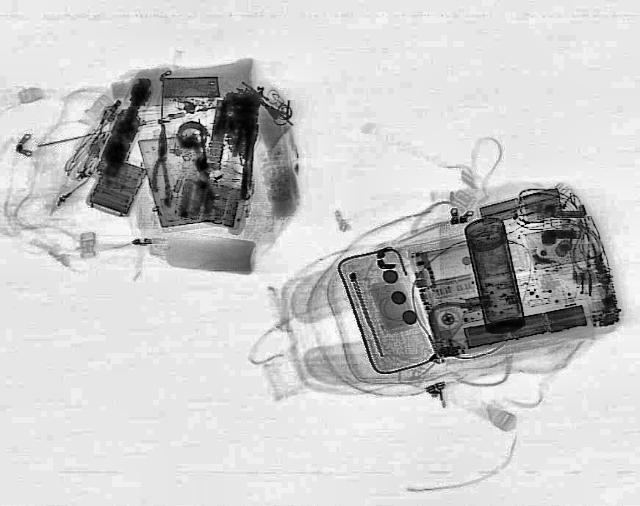Pliers: (145, 124, 175, 200)
